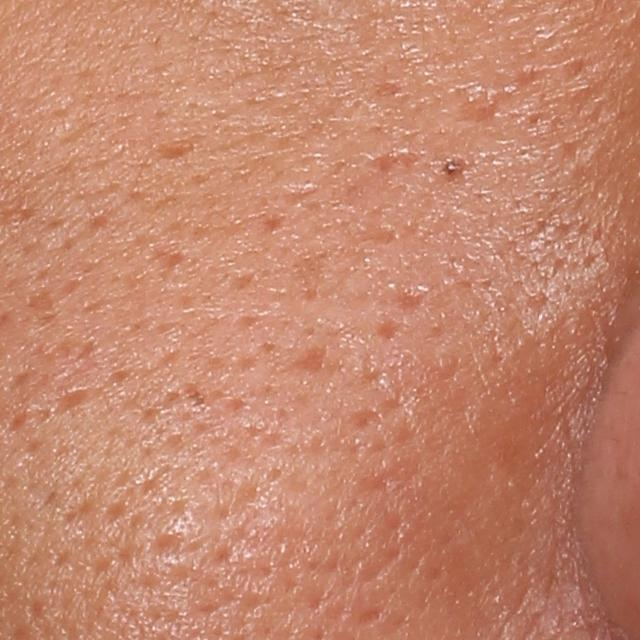atrophic_scar: (447, 85, 508, 128), (45, 383, 98, 424), (149, 137, 200, 166), (284, 345, 328, 373), (150, 246, 188, 274), (368, 150, 414, 172), (395, 284, 429, 313), (373, 316, 408, 338)
nevus: (439, 156, 465, 178)
